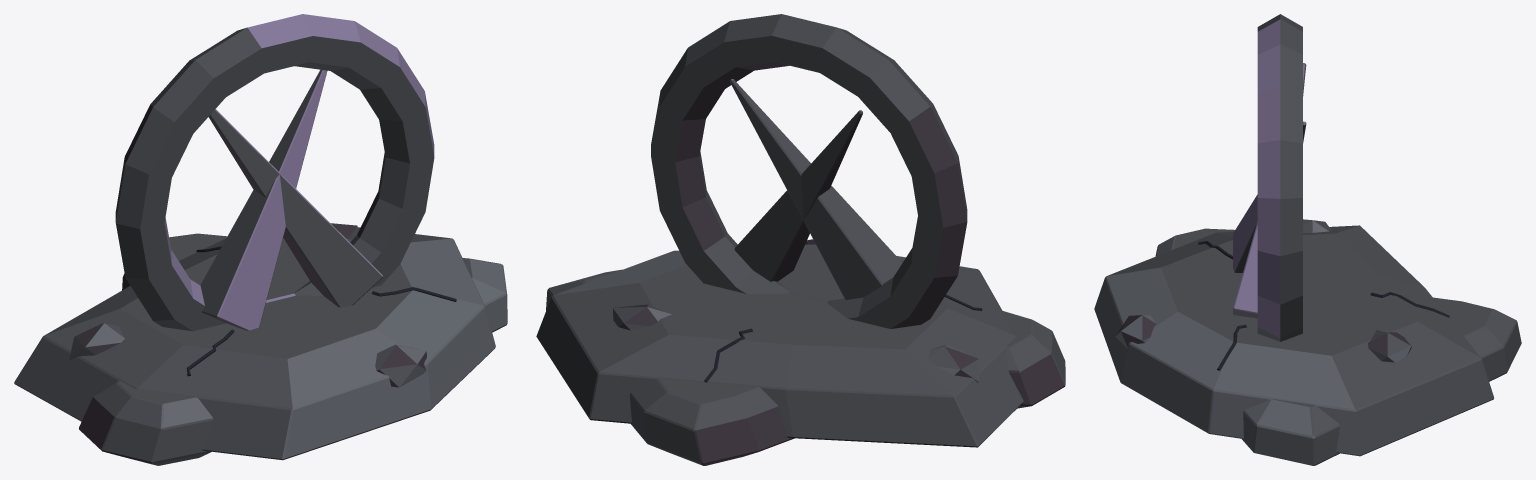
Rendered from BH_ORE_O23_Singularidade_Lapidada_V02.glb.
3 renders of one model, left to right at view 1: azimuth 30°, elevation 25°; view 2: azimuth 150°, elevation 25°; view 3: azimuth 270°, elevation 25°, orthographic. The views are drawn at different scales.
Visible parts, largest first — view 1: Bedrock | primary.003, Enclosing stone / obsidian halo.003, Crossed axis.006, Crossed axis.007, Bedrock | shoulder 1.003, Bedrock | shoulder 2.003, O23 | V02 embedded stone ledge.004, O23 | V02 embedded stone ledge.003, Bedrock | shoulder 3.003; view 2: Bedrock | primary.003, Enclosing stone / obsidian halo.003, Bedrock | shoulder 3.003, Crossed axis.006, Crossed axis.007, Bedrock | shoulder 1.003, O23 | V02 embedded stone ledge.003, O23 | V02 embedded stone ledge.005; view 3: Bedrock | primary.003, Enclosing stone / obsidian halo.003, Bedrock | shoulder 2.003, Bedrock | shoulder 3.003, Crossed axis.007, Crossed axis.006, O23 | V02 embedded stone ledge.005, O23 | V02 embedded stone ledge.004, Bedrock | shoulder 1.003.
Part boxes in pixels (left/top/right/bottom): Bedrock | primary.003: left=14, top=227, right=495, bottom=460; Enclosing stone / obsidian halo.003: left=115, top=14, right=434, bottom=331; Crossed axis.006: left=200, top=69, right=327, bottom=330; Crossed axis.007: left=209, top=109, right=383, bottom=307; Bedrock | shoulder 1.003: left=79, top=380, right=213, bottom=465; Bedrock | shoulder 2.003: left=462, top=258, right=507, bottom=332; O23 | V02 embedded stone ledge.004: left=375, top=345, right=426, bottom=387; O23 | V02 embedded stone ledge.003: left=69, top=323, right=124, bottom=359; Bedrock | shoulder 3.003: left=122, top=233, right=227, bottom=290; Bedrock | primary.003: left=536, top=244, right=1023, bottom=447; Enclosing stone / obsidian halo.003: left=651, top=14, right=967, bottom=328; Bedrock | shoulder 3.003: left=629, top=378, right=794, bottom=465; Crossed axis.006: left=730, top=79, right=902, bottom=299; Crossed axis.007: left=734, top=110, right=862, bottom=281; Bedrock | shoulder 1.003: left=1002, top=310, right=1065, bottom=408; O23 | V02 embedded stone ledge.003: left=928, top=345, right=979, bottom=382; O23 | V02 embedded stone ledge.005: left=613, top=304, right=671, bottom=330; Bedrock | primary.003: left=1094, top=225, right=1493, bottom=456; Enclosing stone / obsidian halo.003: left=1257, top=14, right=1302, bottom=341; Bedrock | shoulder 2.003: left=1241, top=399, right=1339, bottom=465; Bedrock | shoulder 3.003: left=1433, top=297, right=1521, bottom=381; Crossed axis.007: left=1233, top=63, right=1306, bottom=318; Crossed axis.006: left=1233, top=121, right=1306, bottom=272; O23 | V02 embedded stone ledge.005: left=1368, top=330, right=1411, bottom=362; O23 | V02 embedded stone ledge.004: left=1115, top=315, right=1155, bottom=348; Bedrock | shoulder 1.003: left=1155, top=228, right=1234, bottom=256.
Bounding box in the file's own units: 3.04 × 2.28 × 2.61.
